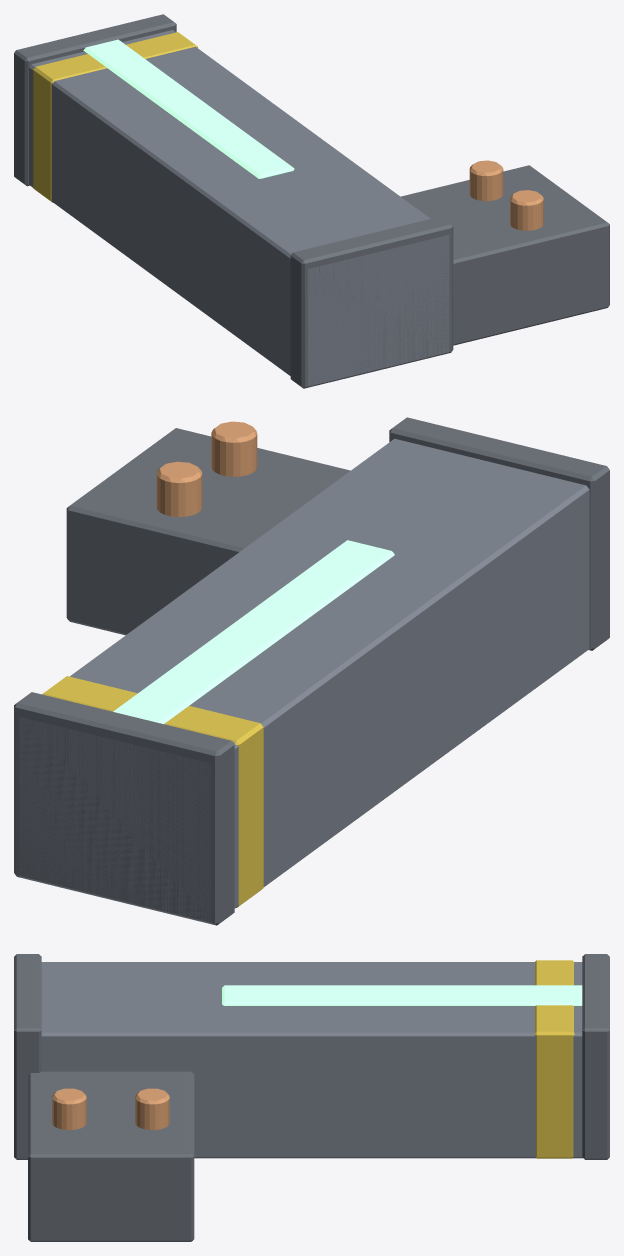
File: power_cell.glb
3 renders of one model, top to bottom at view 1: azimuth 30°, elevation 25°; view 2: azimuth 150°, elevation 25°; view 3: azimuth 270°, elevation 25°, orthographic. The views are drawn at different scales.
Parts seen in each view (by area): view 1: power_cell; view 2: power_cell; view 3: power_cell.
Part boxes in pixels (x1,y1,x2,y2): power_cell: [14, 14, 609, 388]; power_cell: [14, 417, 609, 925]; power_cell: [14, 954, 609, 1241].
Bounding box in the file's own units: 0.27 × 0.105 × 0.43.
